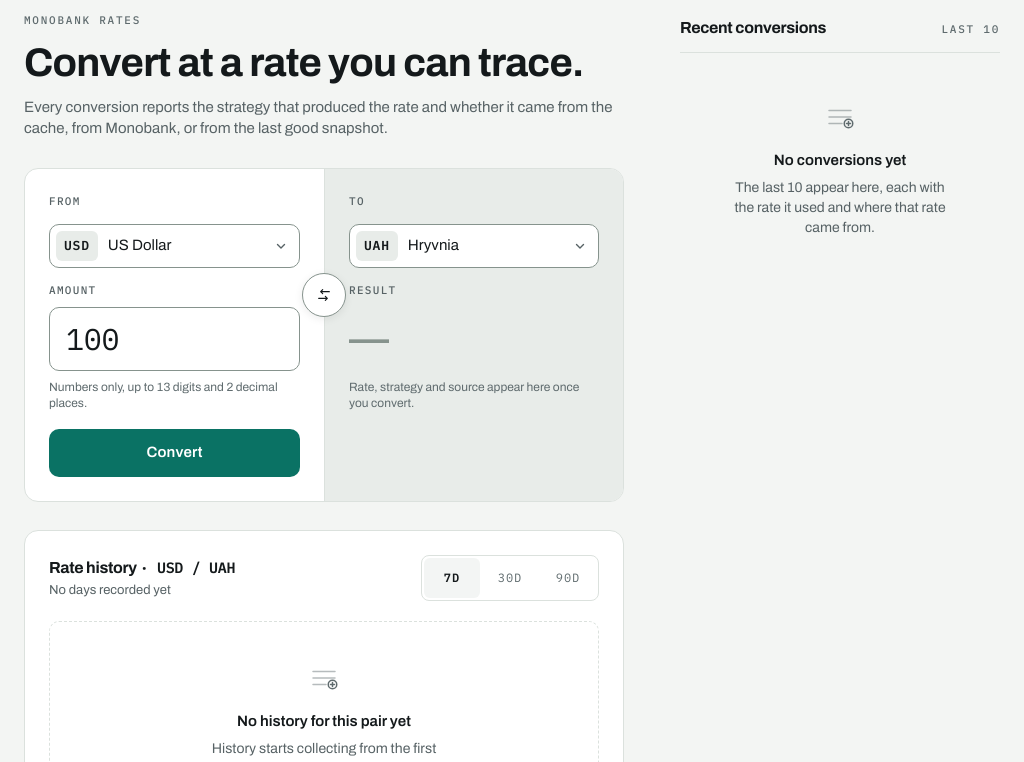
Test: ConverterPage › swaps the two currencies
Click the button named "Swap the two currencies". click: (324, 295)
box: [302,273,346,317]
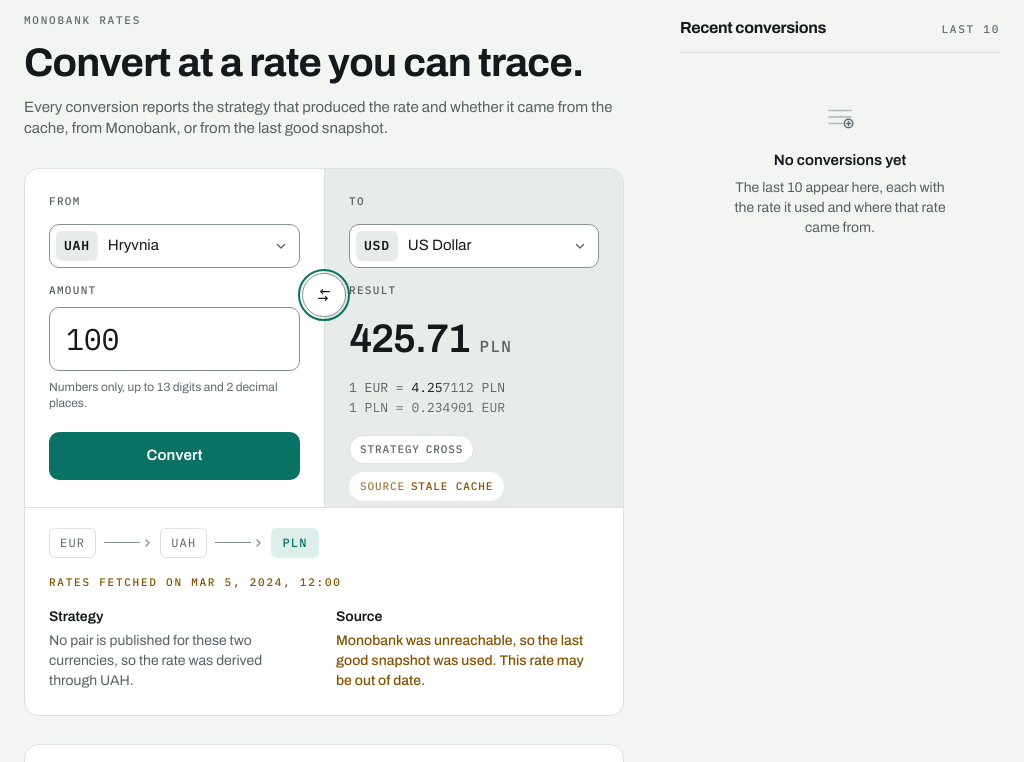
Check: the dropdown named "From" shows "UAH", box [49,224,300,268]
Check: the dropdown named "To" shows "USD", box [349,224,599,268]
